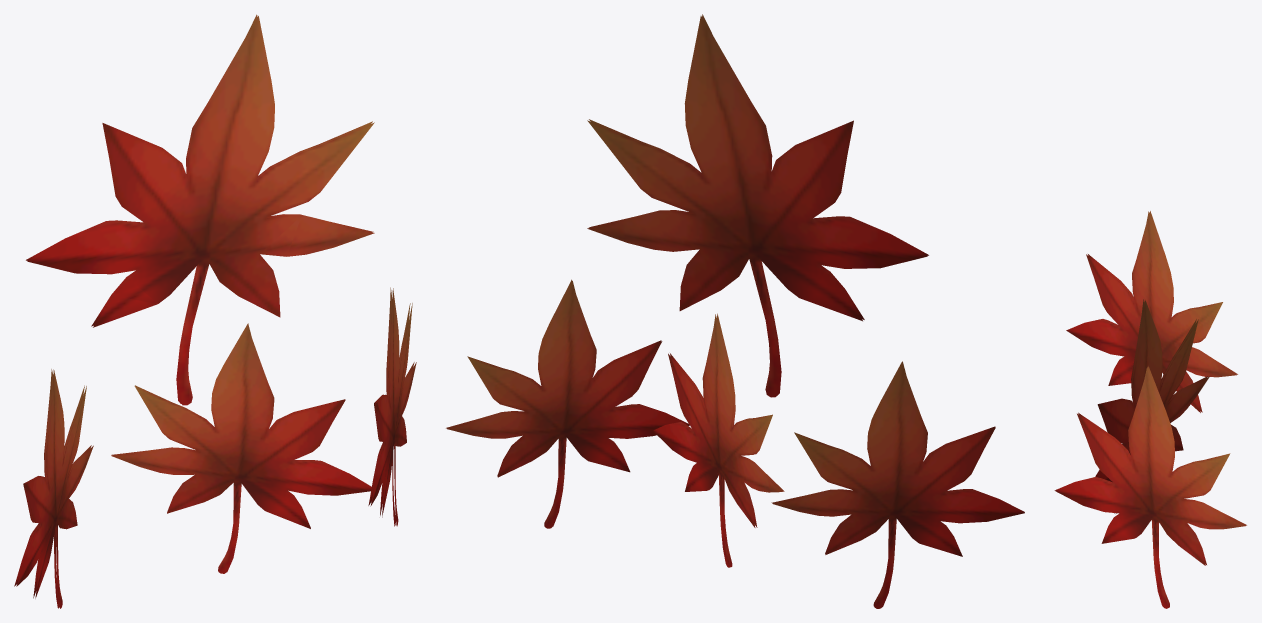
File: SAVE.ICO.obj
3 renders of one model, left to right at view 1: azimuth 30°, elevation 25°; view 2: azimuth 150°, elevation 25°; view 3: azimuth 270°, elevation 25°, orthographic. The views are drawn at different scales.
Size of the model in its own units: 3.39 by 3.61 by 1.21.
1 material, 1 textured.
